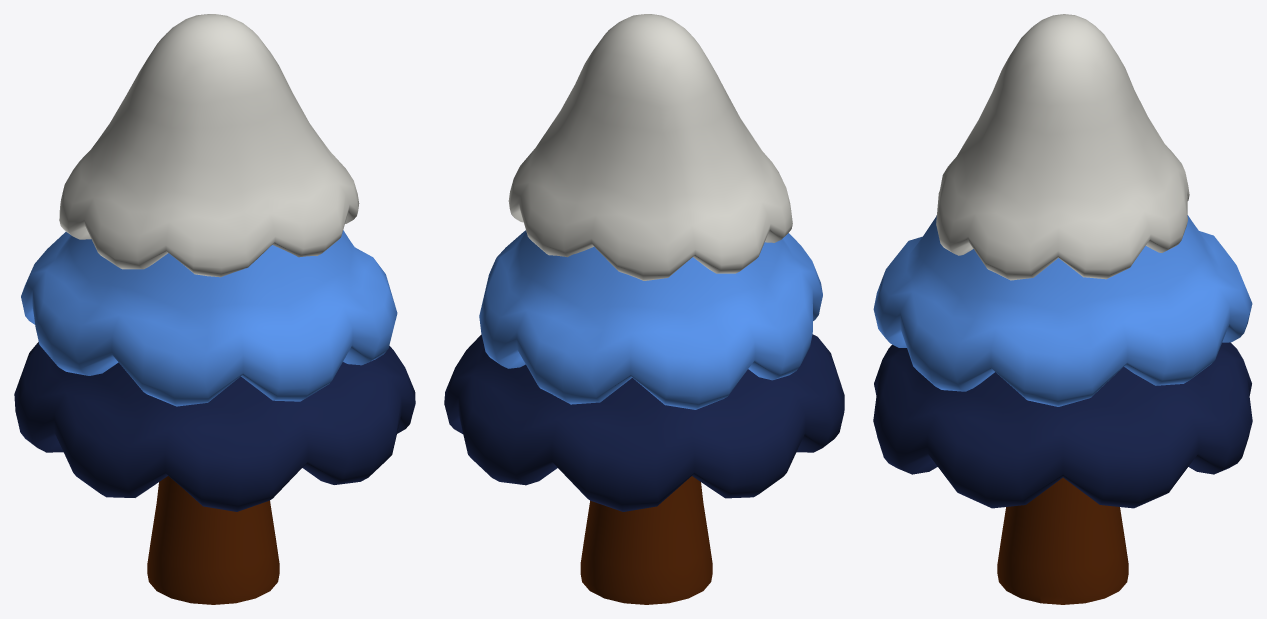
File: Sapin_02.fbx
The picture shows the model from 3 angles, left to right: view 1: azimuth 30°, elevation 25°; view 2: azimuth 150°, elevation 25°; view 3: azimuth 270°, elevation 25°; orthographic projection.
Visible parts, largest first — view 1: Feuilles_Haut_low, Feuilles_Milieu_low, Feuilles_Bas_low, Tronc_low; view 2: Feuilles_Haut_low, Feuilles_Milieu_low, Feuilles_Bas_low, Tronc_low; view 3: Feuilles_Haut_low, Feuilles_Milieu_low, Feuilles_Bas_low, Tronc_low.
Boxes of the visible parts, bbox=[...] form: Feuilles_Haut_low: bbox=[59, 14, 359, 277]; Feuilles_Milieu_low: bbox=[21, 230, 397, 406]; Feuilles_Bas_low: bbox=[14, 342, 415, 511]; Tronc_low: bbox=[147, 476, 279, 604]; Feuilles_Haut_low: bbox=[508, 14, 792, 280]; Feuilles_Milieu_low: bbox=[479, 230, 822, 409]; Feuilles_Bas_low: bbox=[444, 334, 844, 511]; Tronc_low: bbox=[580, 476, 712, 604]; Feuilles_Haut_low: bbox=[936, 14, 1189, 280]; Feuilles_Milieu_low: bbox=[873, 215, 1252, 406]; Feuilles_Bas_low: bbox=[873, 342, 1252, 508]; Tronc_low: bbox=[997, 477, 1128, 604].
Size of the model in its own units: 72.72 by 117 by 72.56.
